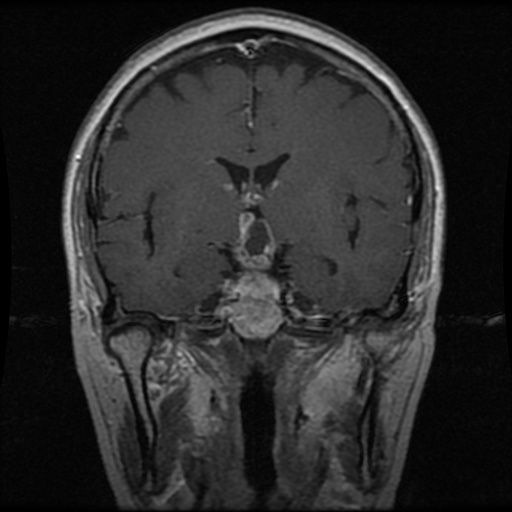pituitary: (227, 213, 277, 301)
